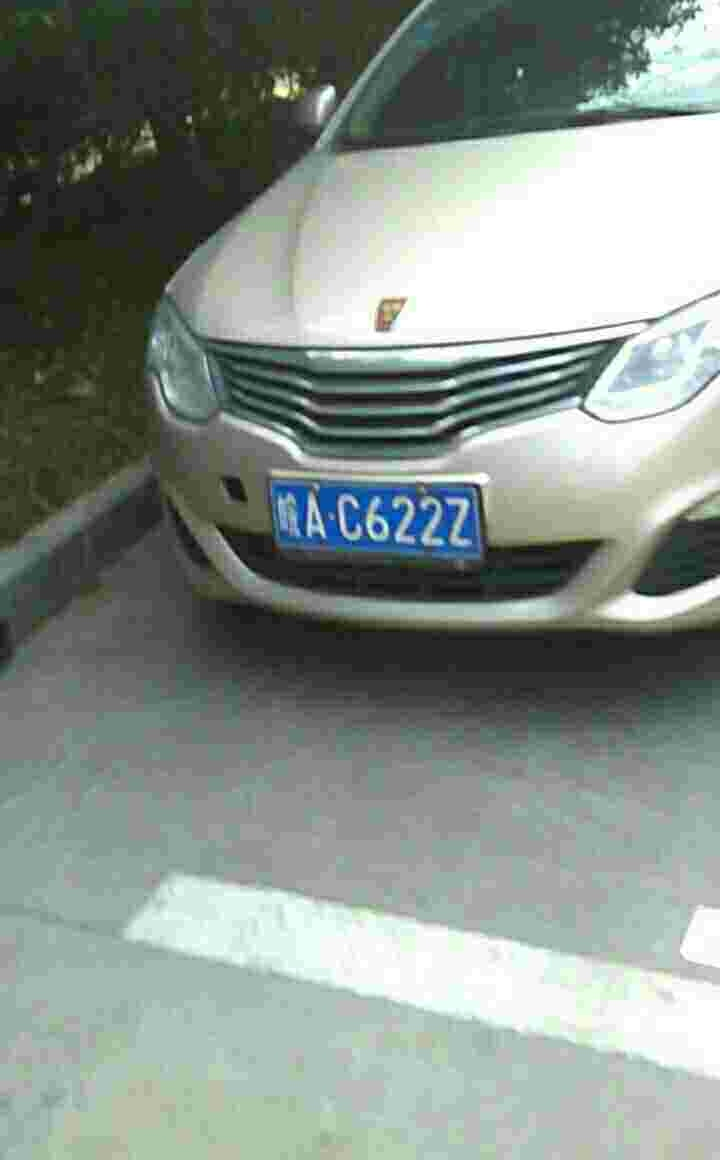license_plate: (278, 477, 483, 554)
